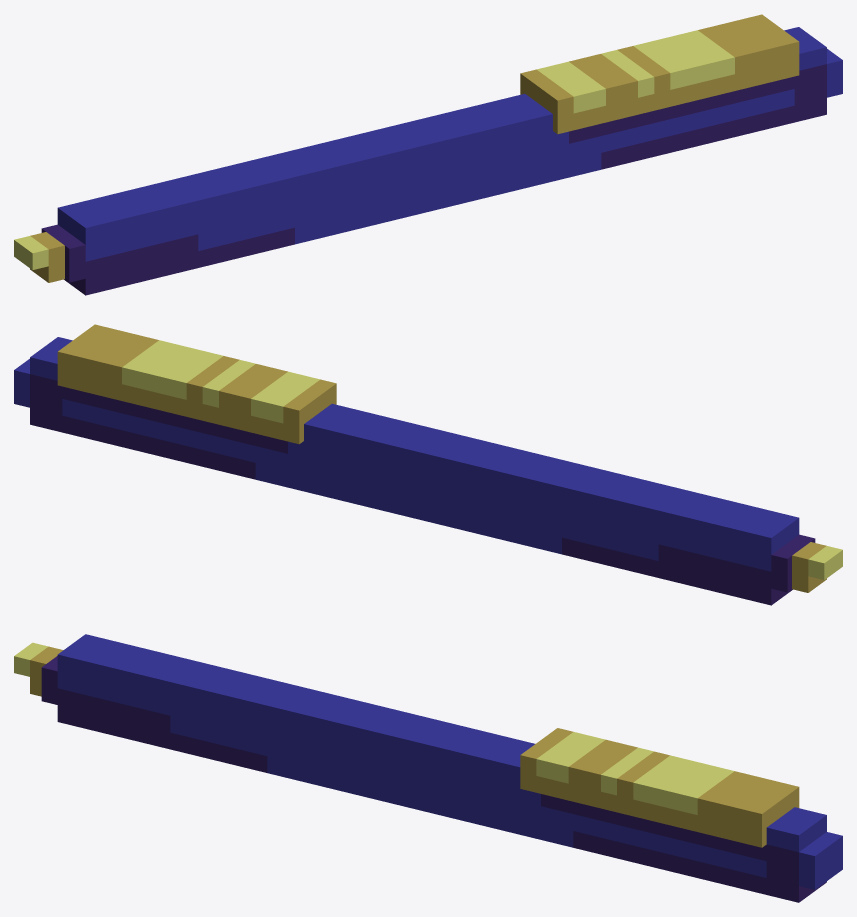
The model's file is kalem.fbx.
The picture shows the model from 3 angles, top to bottom: view 1: azimuth 30°, elevation 25°; view 2: azimuth 150°, elevation 25°; view 3: azimuth 330°, elevation 25°; orthographic projection.
Visible parts, largest first — view 1: generated; view 2: generated; view 3: generated.
Boxes of the visible parts, x1=… form: generated: x1=14, y1=14, x2=842, y2=295; generated: x1=14, y1=324, x2=842, y2=605; generated: x1=14, y1=634, x2=842, y2=902.
Size of the model in its own units: 500 by 50 by 40.
